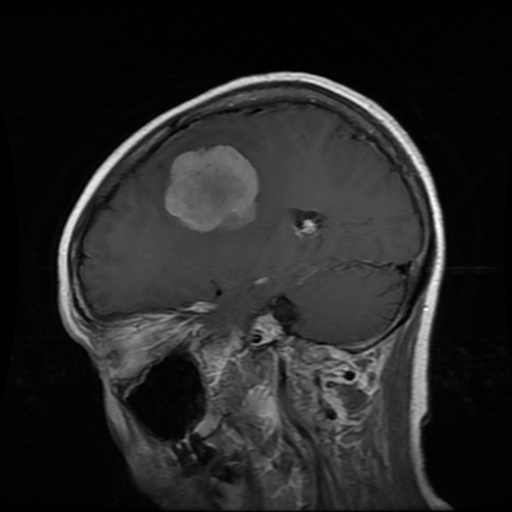meningioma: (164, 143, 259, 231)
